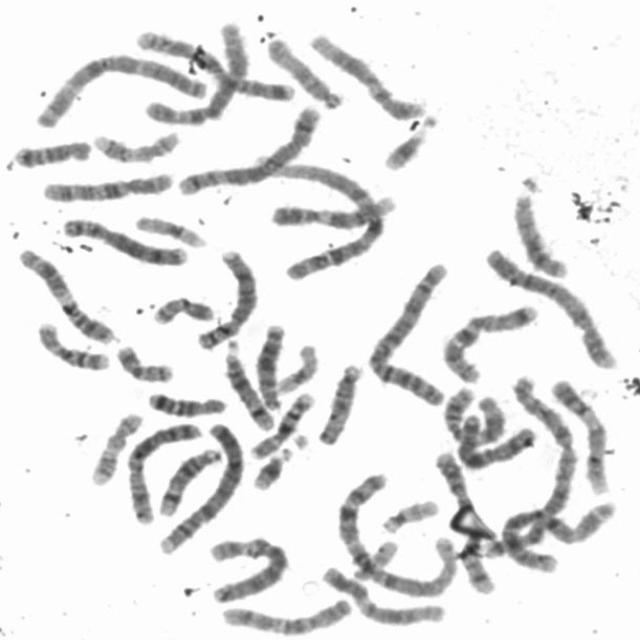A1: (248, 146, 391, 282), (334, 466, 461, 598)
A2: (482, 371, 582, 570), (362, 256, 457, 408)
A3: (29, 48, 214, 130), (482, 496, 619, 560)
B4: (479, 242, 621, 371), (151, 417, 248, 557)
B5: (174, 99, 325, 197), (430, 448, 500, 596)
C10: (217, 593, 356, 637), (38, 166, 177, 204)
C11: (12, 242, 118, 347), (438, 383, 509, 446)
C12: (304, 27, 429, 122), (316, 561, 450, 627)
C6: (140, 17, 250, 128), (204, 530, 292, 605)
C7: (130, 24, 297, 104), (437, 298, 542, 386)
C8: (190, 245, 260, 352), (58, 212, 190, 268)
C9: (546, 374, 612, 496), (265, 188, 403, 230)
D13: (508, 187, 572, 280), (253, 319, 289, 412)
D14: (219, 334, 277, 432), (154, 442, 227, 518)
D15: (262, 32, 346, 110), (312, 357, 367, 447)
E16: (248, 387, 318, 460), (32, 316, 113, 373)
E17: (85, 407, 144, 488), (87, 126, 183, 164)
E18: (8, 134, 94, 170), (144, 387, 230, 418)
F19: (131, 210, 209, 249), (271, 339, 322, 395)
F20: (110, 339, 177, 384), (146, 291, 216, 327)
G21: (378, 111, 442, 173), (248, 442, 296, 492)
G22: (376, 493, 442, 535), (347, 535, 401, 582)
X: (120, 416, 204, 526), (452, 407, 538, 471)
